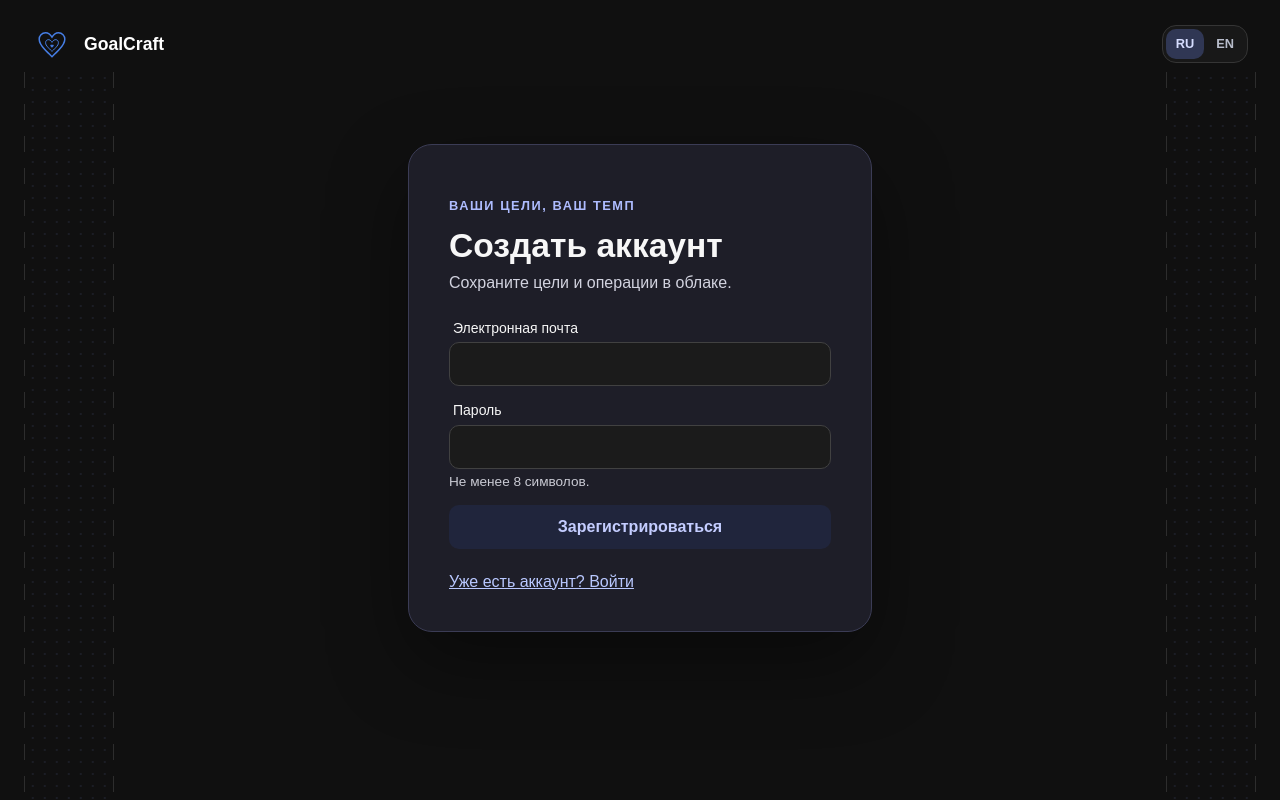
Test: sign-up prompts for email confirmation
Type "me@example.com" into the field labelled "Электронная почта".
click(640, 364); type("me@example.com")  # box top-left (449, 342), bottom-right (831, 386)
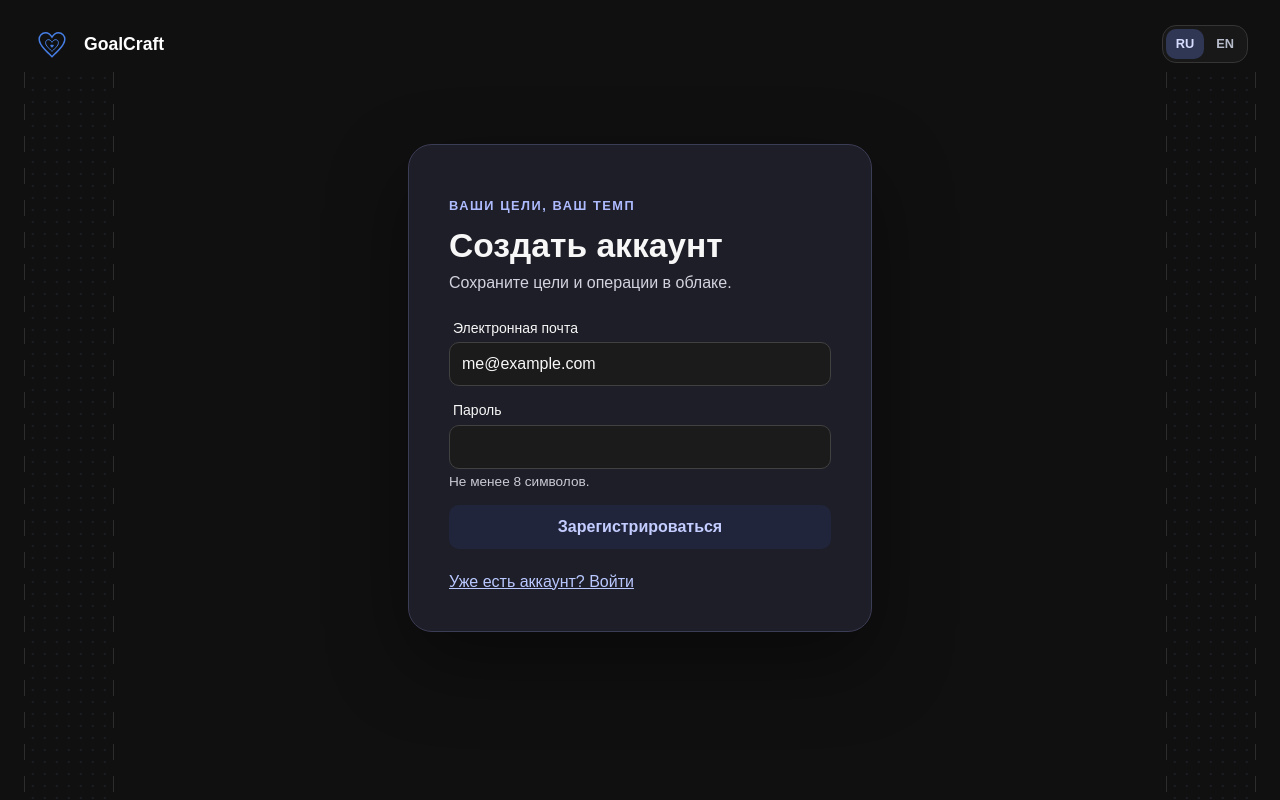
Type "secret123" into the password field labelled "Пароль".
click(640, 447); type("secret123")  # box top-left (449, 425), bottom-right (831, 469)
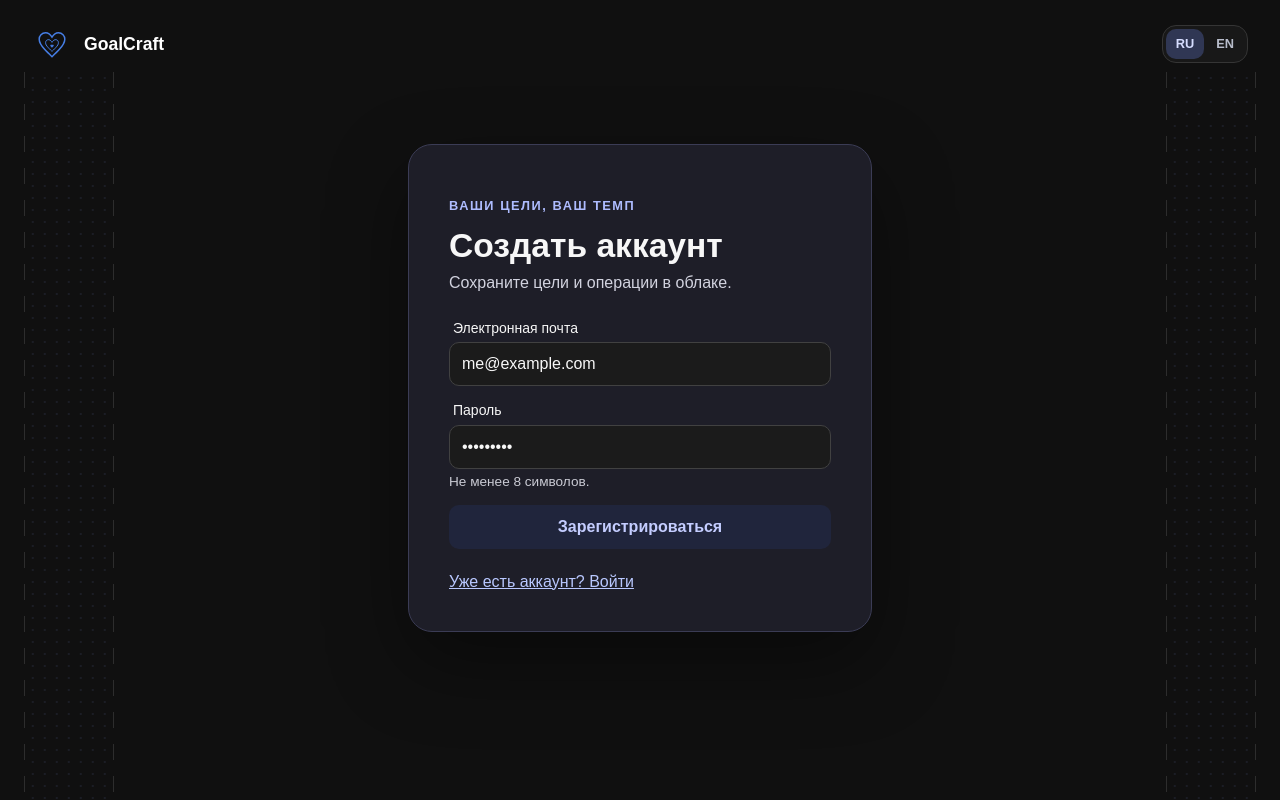
Click the button "Зарегистрироваться".
click(640, 526)  # box top-left (449, 504), bottom-right (831, 548)
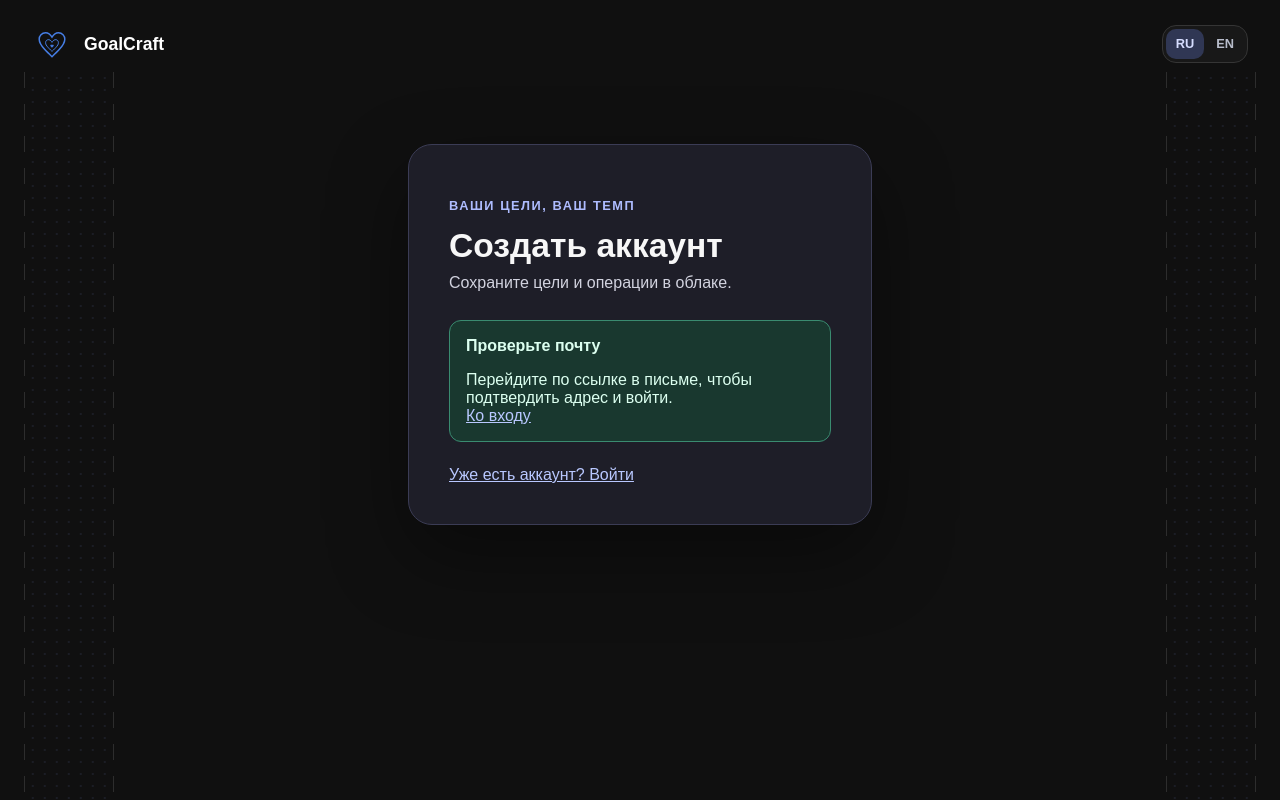
Now the text "Проверьте почту" is shown, box top-left (466, 337), bottom-right (600, 354)
